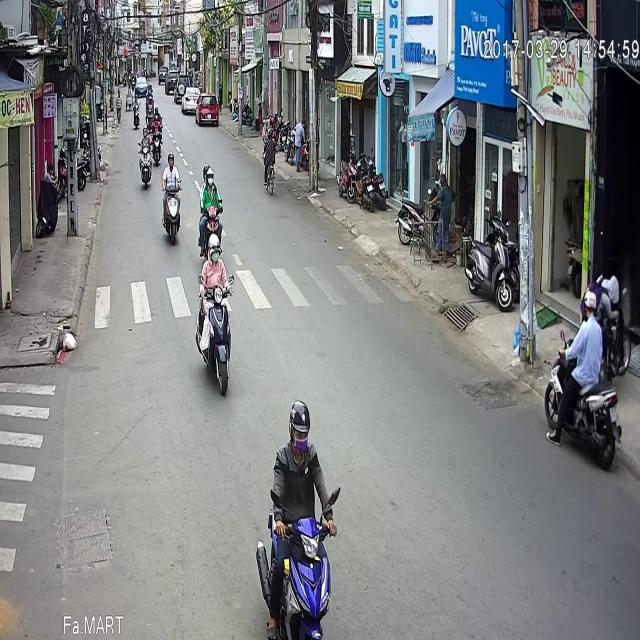bicycle: (262, 72, 274, 138)
car: (195, 34, 219, 69)
motorcycle: (257, 340, 343, 609), (545, 230, 621, 413), (198, 174, 234, 342), (198, 105, 224, 204), (162, 91, 182, 188), (138, 66, 152, 130), (150, 56, 162, 109)
